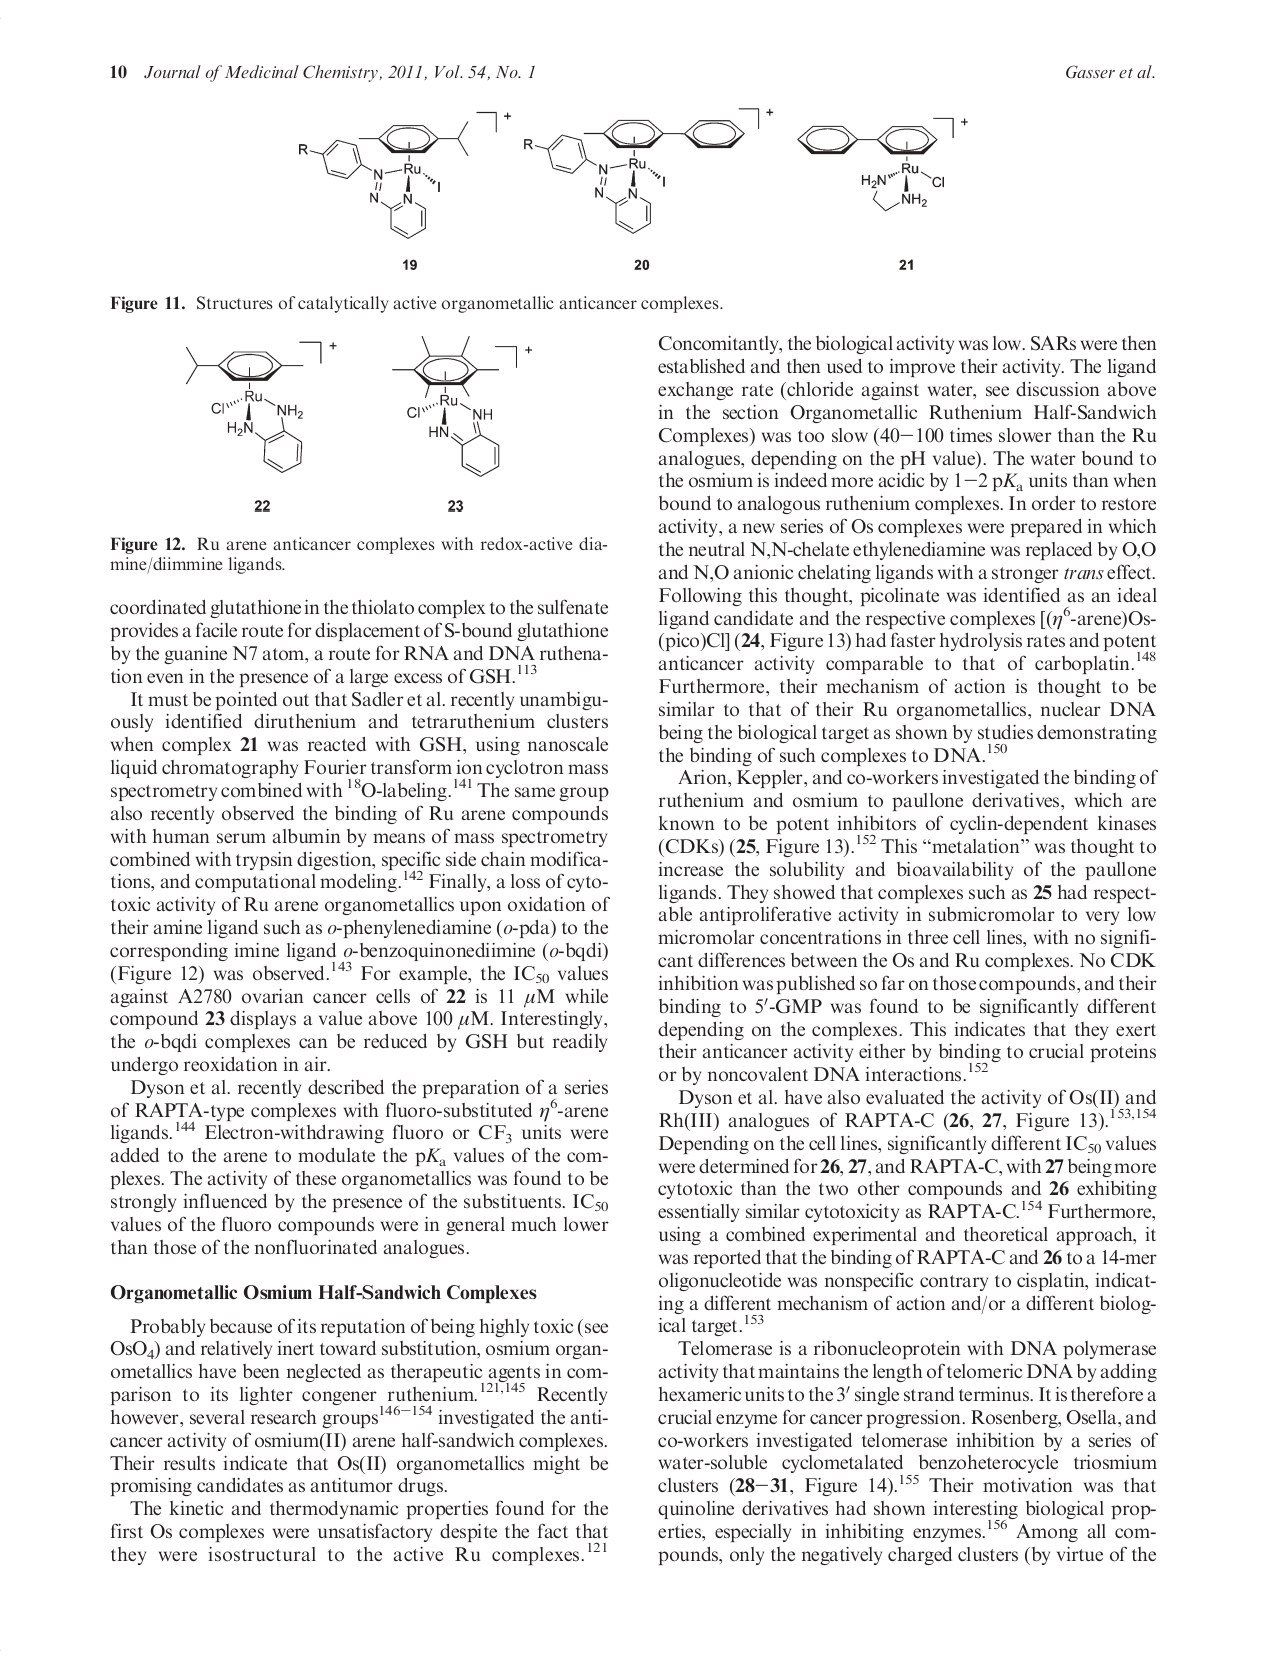exist_molecular: (521, 114, 749, 237), (293, 118, 476, 241), (178, 342, 315, 473), (390, 331, 507, 477), (797, 122, 949, 215)
